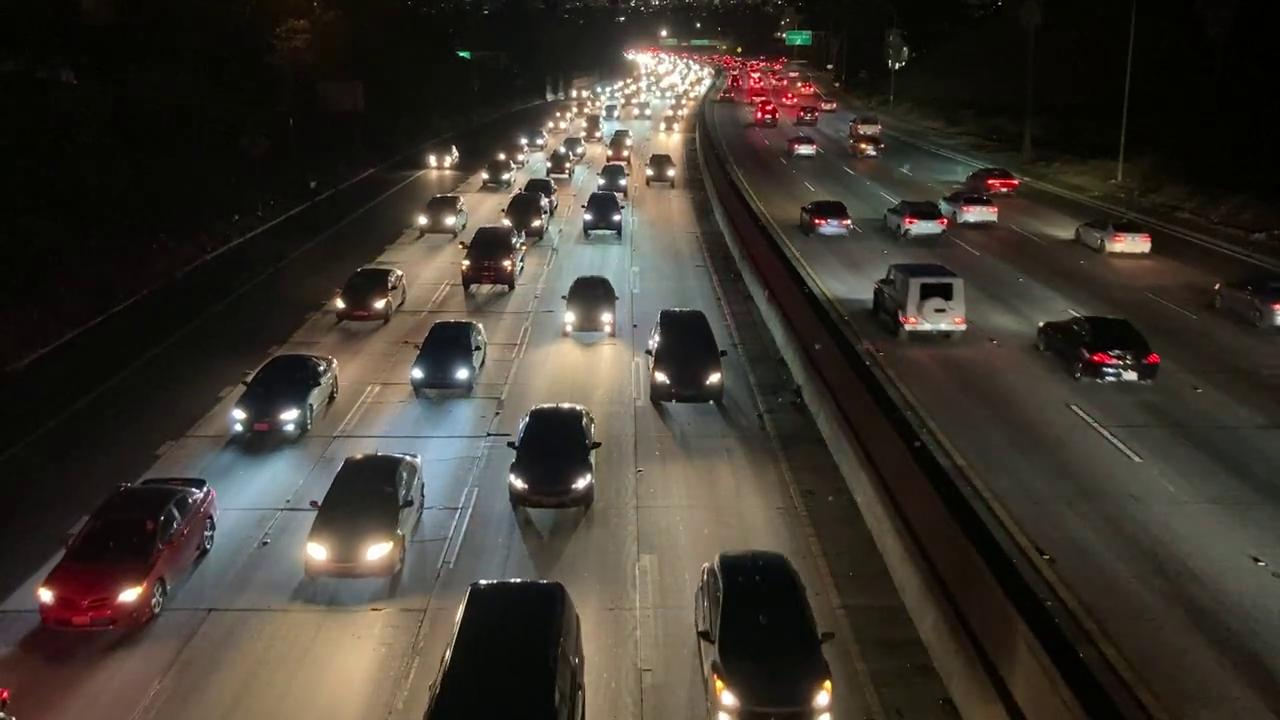car: (672, 532, 852, 720), (28, 471, 229, 628), (421, 571, 589, 720), (299, 450, 430, 592), (507, 386, 608, 519), (224, 352, 334, 445), (640, 310, 731, 415), (1033, 312, 1162, 384), (866, 263, 969, 340), (411, 319, 489, 397), (1211, 269, 1280, 340), (1065, 215, 1159, 260), (336, 269, 410, 326), (459, 232, 521, 293), (565, 275, 629, 334), (573, 189, 627, 241), (882, 200, 948, 241), (413, 196, 472, 235), (501, 190, 548, 237), (798, 201, 856, 239), (952, 169, 1023, 199), (847, 121, 885, 160), (637, 153, 680, 185), (953, 197, 1000, 226), (525, 172, 556, 213), (542, 148, 579, 180), (426, 141, 464, 172), (482, 157, 520, 185), (784, 132, 820, 160), (600, 162, 627, 197), (607, 139, 636, 165), (753, 103, 780, 128), (796, 103, 822, 125), (819, 95, 836, 114)
